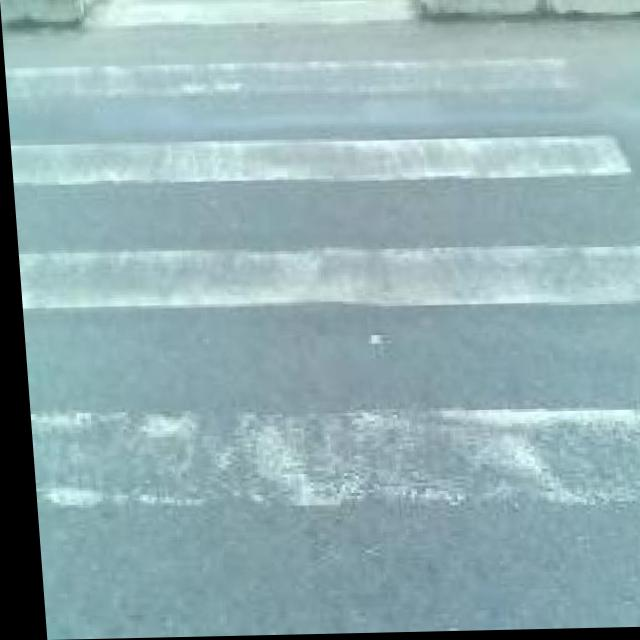zebra: (11, 37, 640, 602)
